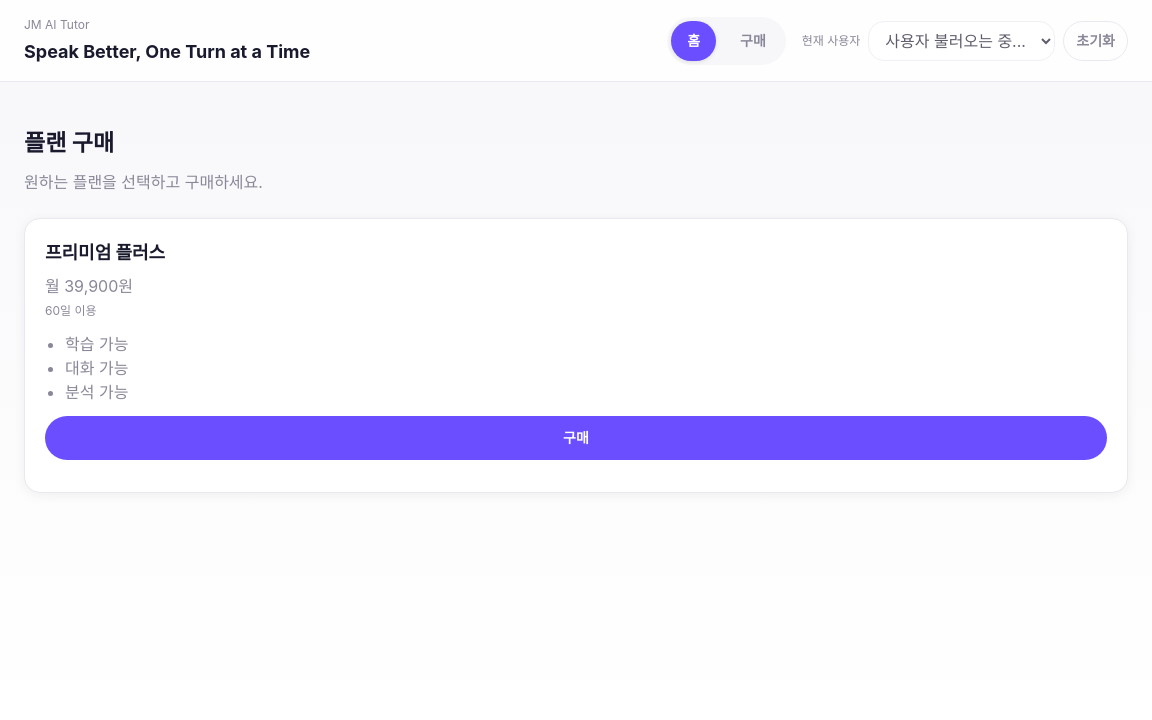
Scenario: PlansPage › PaymentModal 취소 클릭 시 모달이 닫혀요
Click the button "구매": click(576, 438) [45,416,1107,460]
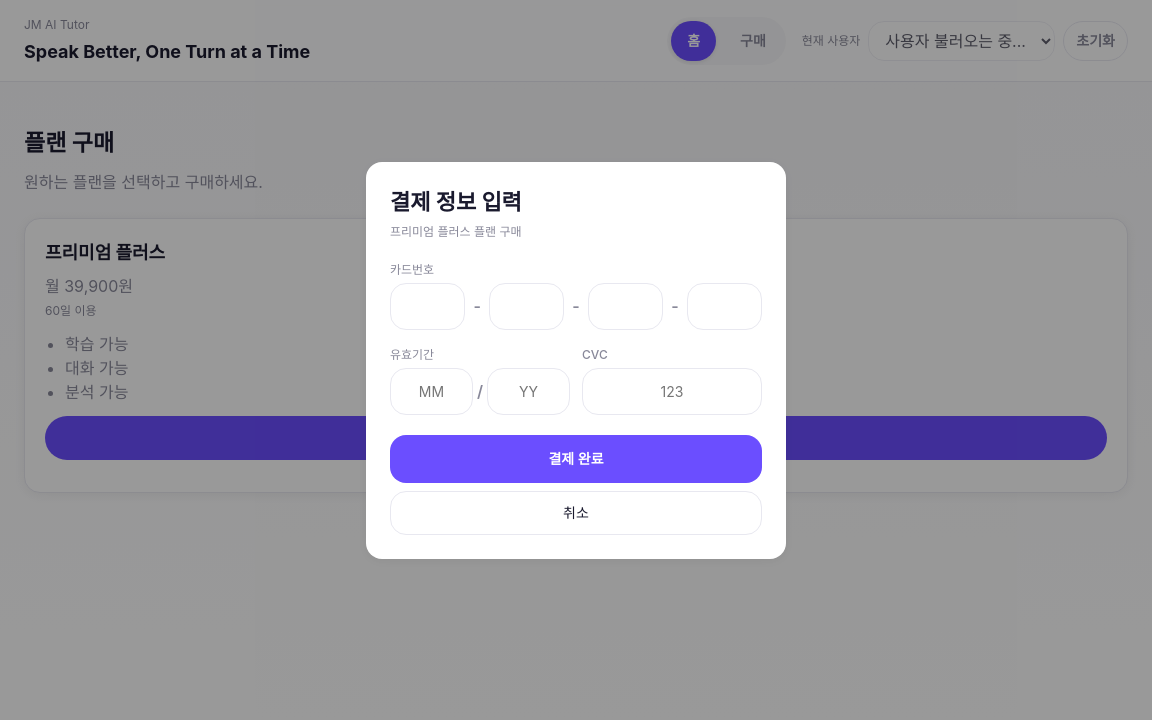
Click the button "취소": click(576, 512) [390,490,762,534]
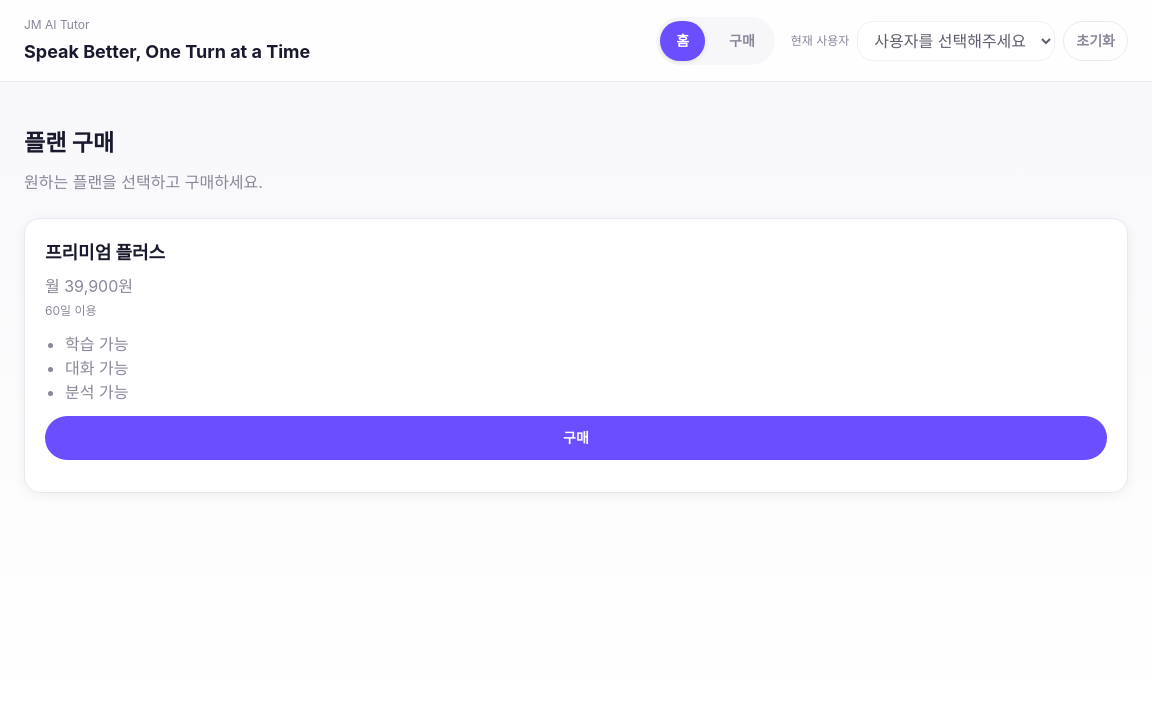
Now the heading "결제 정보 입력" is gone
